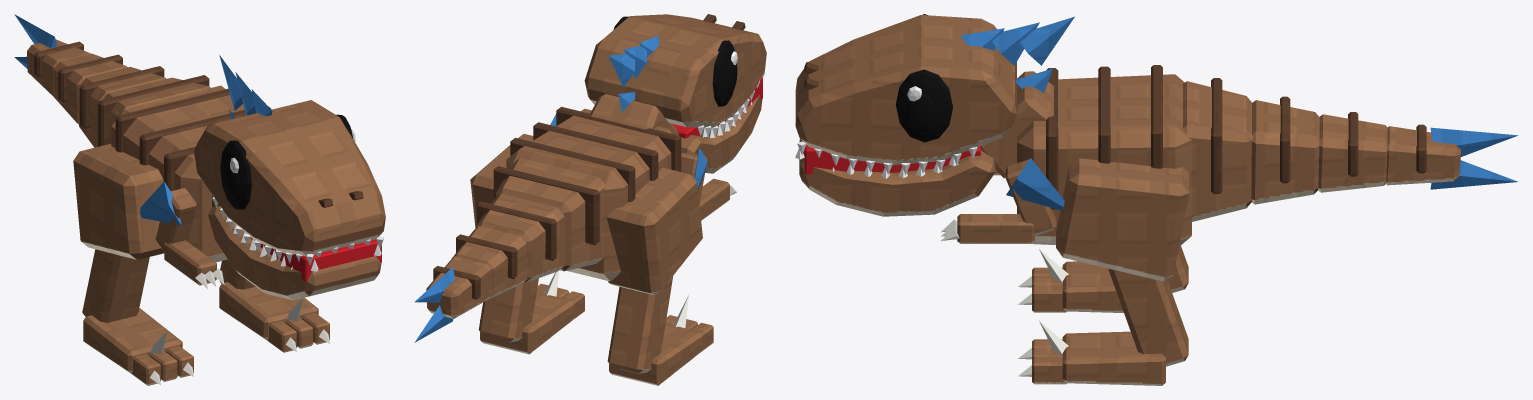
The model's file is bebe_08_Velociraptor.glb.
The picture shows the model from 3 angles, left to right: view 1: azimuth 30°, elevation 25°; view 2: azimuth 150°, elevation 25°; view 3: azimuth 270°, elevation 25°; orthographic projection. The views are drawn at different scales.
Parts seen in each view (by area): view 1: bebe_08_Velociraptor; view 2: bebe_08_Velociraptor; view 3: bebe_08_Velociraptor.
Boxes of the visible parts, x1,y1,x2,y2 form: bebe_08_Velociraptor: (14,14,385,385); bebe_08_Velociraptor: (414,14,766,385); bebe_08_Velociraptor: (795,14,1518,385).
Bounding box in the file's own units: 0.9848 × 1.44 × 2.94.
1 material, 1 textured.
